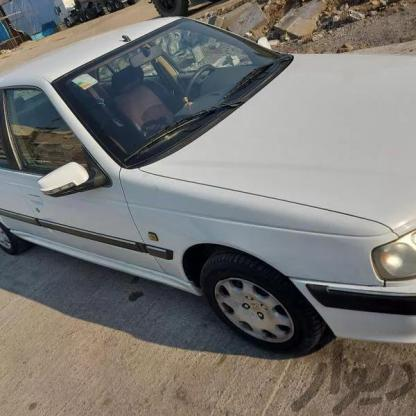Car: (0, 0, 416, 349)
